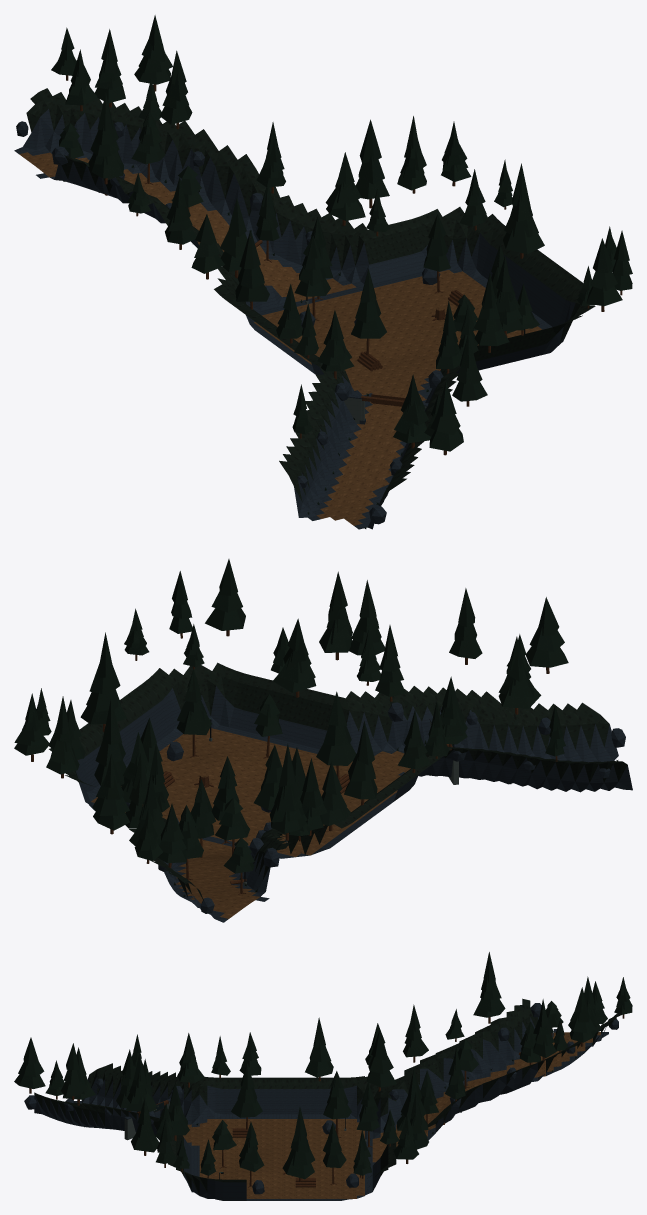
File: Pohorje_Route_A.fbx
3 views of the same model, one above another, from view 1: azimuth 30°, elevation 25°; view 2: azimuth 150°, elevation 25°; view 3: azimuth 270°, elevation 25° (orthographic). The views are drawn at different scales.
Visible parts, largest first — view 1: PL_A_Ground_02_03, PL_A_Ground_03_04, PL_A_Ground_03_02, PL_A_Ground_02_02, PL_A_Ground_02_04, PL_A_Forest_17_27, PL_A_Forest_16_24, PL_A_Forest_18_24, PL_A_Forest_17_22, PL_A_Forest_18_22, PL_A_Forest_18_25, PL_A_Ground_03_03 (+17 smaller); view 2: PL_A_Ground_02_04, PL_A_Ground_03_04, PL_A_Ground_02_03, PL_A_Forest_17_27, PL_A_Ground_03_02, PL_A_Forest_16_24, PL_A_Ground_03_03, PL_A_Forest_18_22, PL_A_Forest_17_22, PL_A_Forest_18_24, PL_A_Forest_18_25, PL_A_Trees_17_26 (+19 smaller); view 3: PL_A_Ground_02_03, PL_A_Ground_03_03, PL_A_Ground_03_04, PL_A_Ground_03_02, PL_A_Ground_02_04, PL_A_Forest_16_24, PL_A_Forest_17_27, PL_A_Forest_17_22, PL_A_Ground_02_02, PL_A_Forest_18_24, PL_A_Trees_16_25, PL_A_Trees_17_26 (+17 smaller).
Boxes of the visible parts, x1,y1,x2,y2 form: PL_A_Ground_02_03: (257,207,558,366); PL_A_Ground_03_04: (279,343,434,521); PL_A_Ground_03_02: (14,88,224,251); PL_A_Ground_02_02: (155,119,307,252); PL_A_Ground_02_04: (350,279,595,408); PL_A_Forest_17_27: (436,255,523,406); PL_A_Forest_16_24: (355,116,487,236); PL_A_Forest_18_24: (165,176,247,279); PL_A_Forest_17_22: (134,15,192,129); PL_A_Forest_18_22: (51,27,133,181); PL_A_Forest_18_25: (235,230,302,343); PL_A_Ground_03_03: (191,226,324,373); PL_A_Ground_02_04: (137,662,446,787); PL_A_Ground_03_04: (375,688,632,801); PL_A_Ground_02_03: (65,702,352,858); PL_A_Forest_17_27: (319,571,482,744); PL_A_Ground_03_02: (151,828,290,922); PL_A_Forest_16_24: (14,693,126,785); PL_A_Ground_03_03: (275,769,420,858); PL_A_Forest_18_22: (129,774,257,896); PL_A_Forest_17_22: (92,753,148,834); PL_A_Forest_18_24: (292,747,350,835); PL_A_Forest_18_25: (344,710,430,805); PL_A_Trees_17_26: (254,691,356,781); PL_A_Ground_02_03: (246,1113,435,1200); PL_A_Ground_03_03: (248,1054,435,1128); PL_A_Ground_03_04: (58,1063,246,1130); PL_A_Ground_03_02: (435,998,621,1106); PL_A_Ground_02_04: (105,1106,246,1200); PL_A_Forest_16_24: (353,1069,428,1178); PL_A_Forest_17_27: (61,1043,157,1117); PL_A_Forest_17_22: (533,987,596,1061); PL_A_Ground_02_02: (435,1052,561,1132); PL_A_Forest_18_24: (365,1004,428,1091); PL_A_Trees_16_25: (239,1121,346,1187); PL_A_Trees_17_26: (212,1063,262,1168).
Bounding box in the file's own units: 92.36 × 50.01 × 157.
